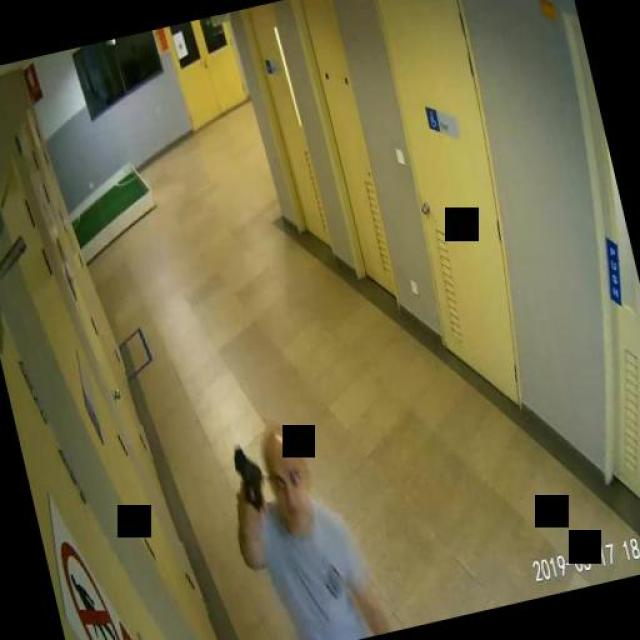gun: (226, 440, 270, 521)
